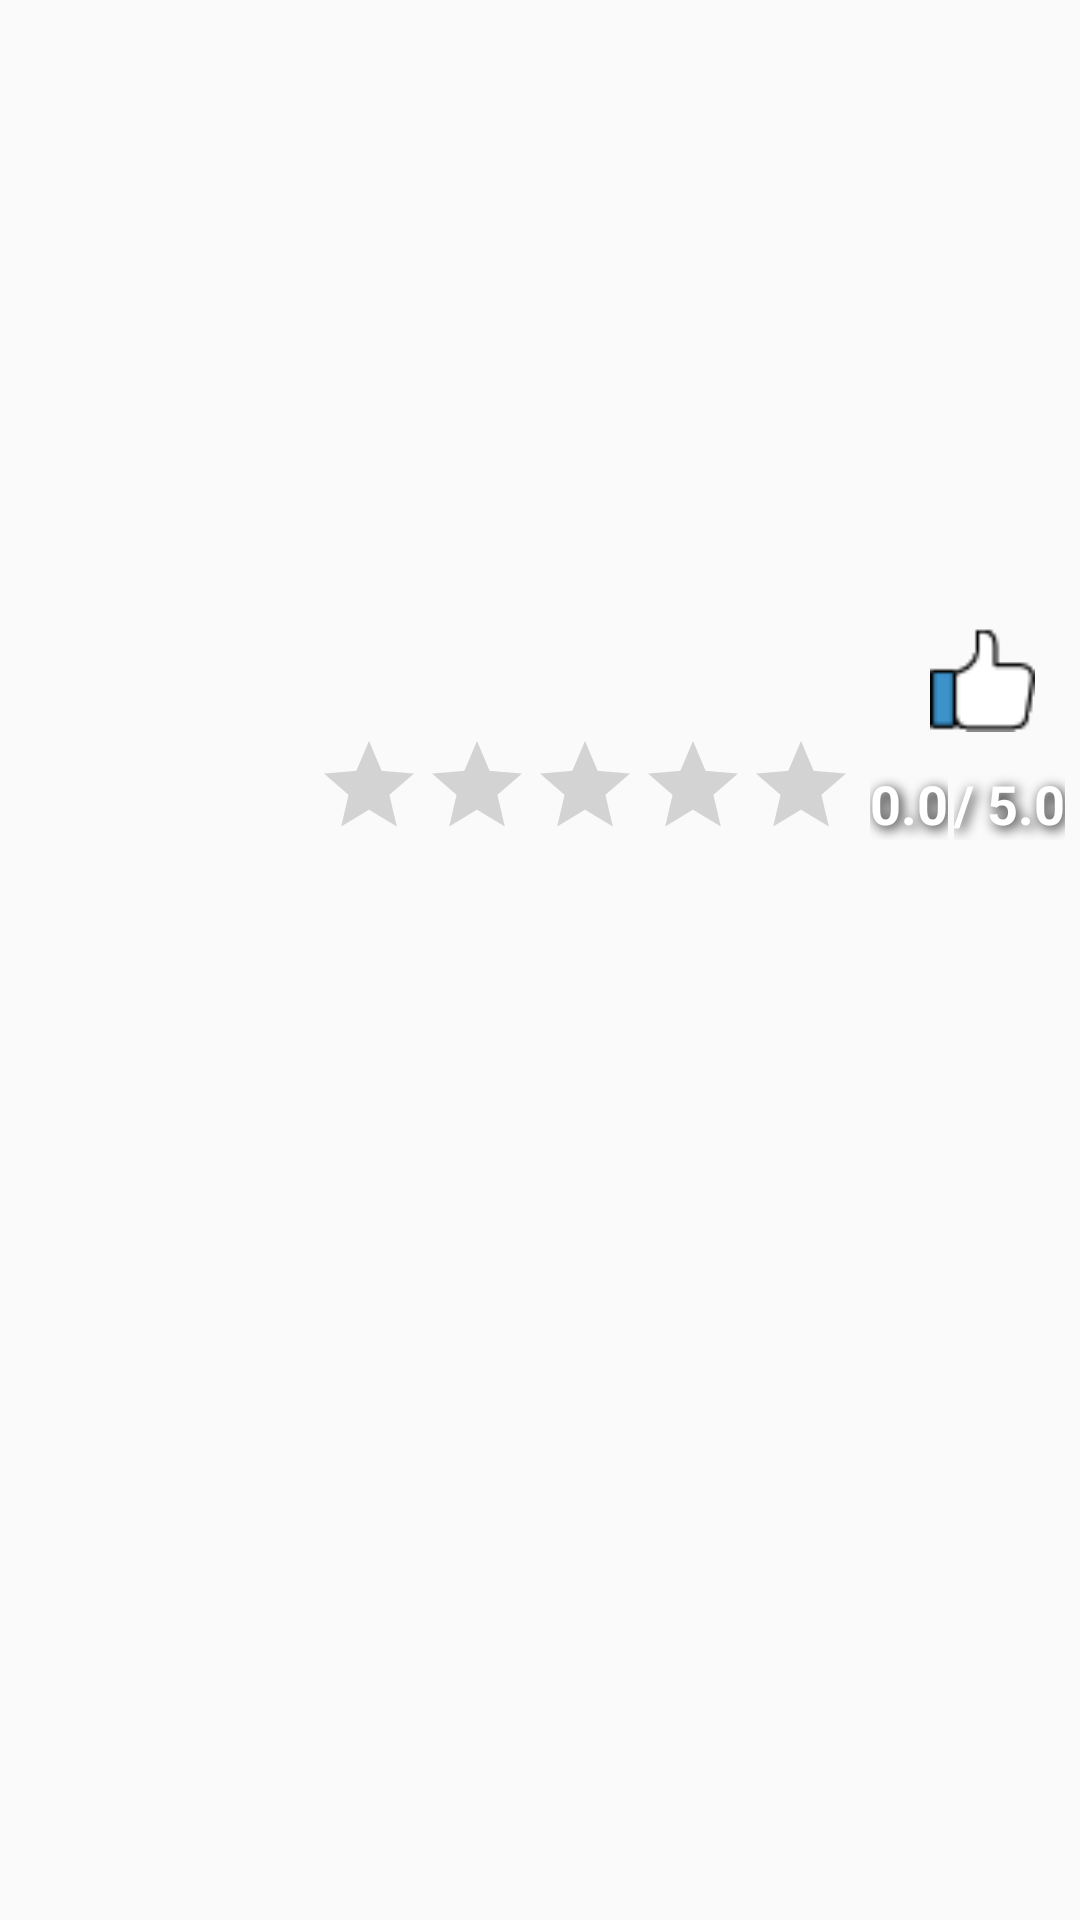

Screen size 1080 × 1920. Icon name, then its center in pixels as (x=x, y=y):
recommend: (x=982, y=680)
